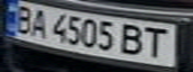0: (78, 16, 100, 50)
4: (45, 11, 69, 44)
5: (96, 18, 121, 53), (63, 15, 84, 46)
A: (27, 7, 51, 38)
B: (118, 21, 148, 56), (9, 2, 39, 35)
T: (139, 25, 175, 60)
